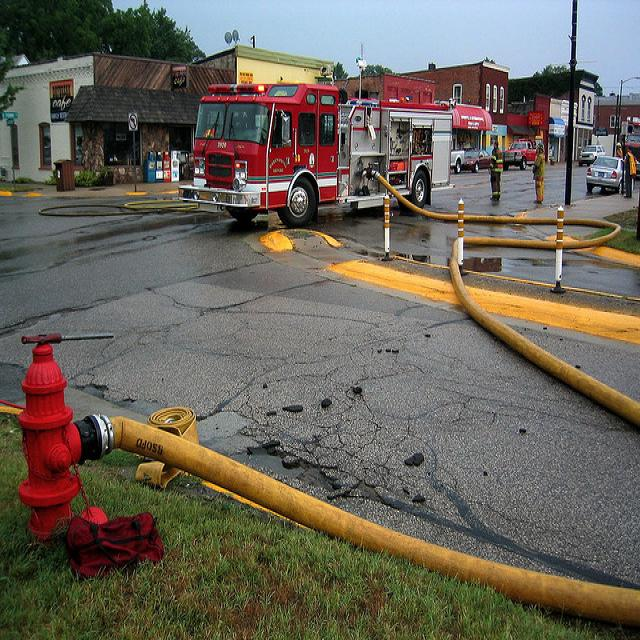Vehicle: (180, 80, 453, 227), (586, 157, 624, 193), (502, 140, 537, 172), (462, 152, 496, 173), (579, 145, 606, 165)
